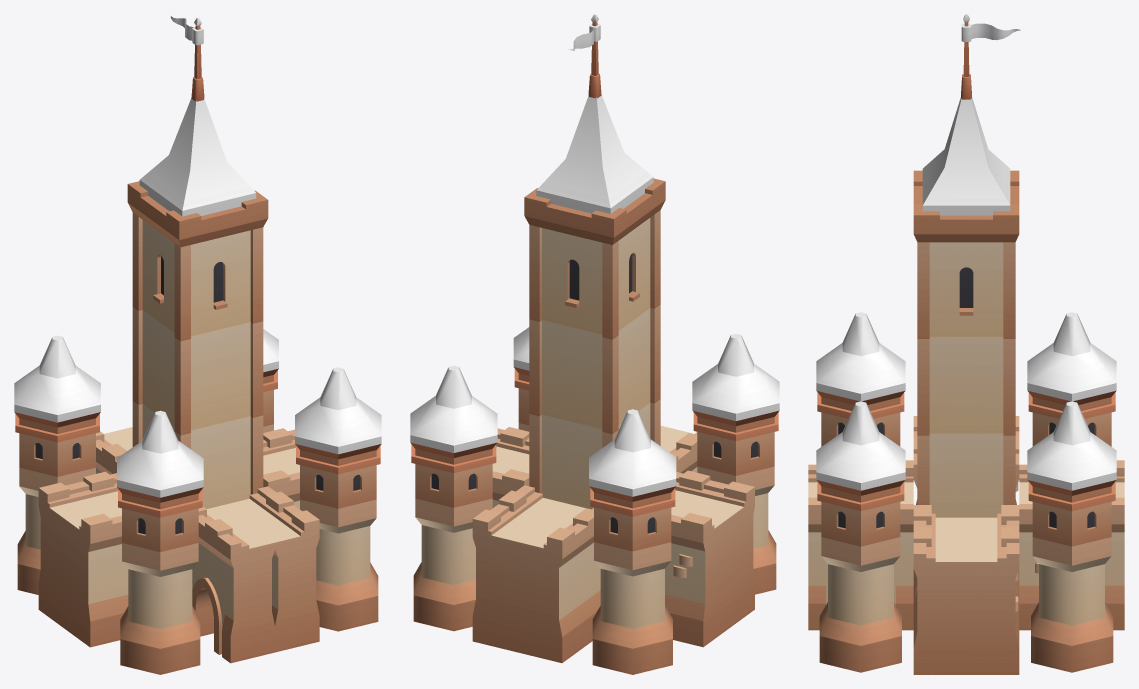
File: castle_large.glb
The picture shows the model from 3 angles, left to right: view 1: azimuth 30°, elevation 25°; view 2: azimuth 150°, elevation 25°; view 3: azimuth 270°, elevation 25°; orthographic projection. The views are drawn at different scales.
Visible parts, largest first — view 1: tower-hexagon-base (×3), tower-square-mid (×2), wall-doorway (×2), tower-hexagon-roof (×4), wall (×3), tower-square-mid-windows, tower-square-top-roof-high, tower-hexagon-mid (×4), flag-pennant; view 2: wall (×3), tower-hexagon-base (×3), tower-square-mid (×2), tower-hexagon-roof (×4), tower-square-mid-windows, tower-square-top-roof-high, tower-hexagon-mid (×4), wall-doorway, flag-pennant; view 3: tower-hexagon-roof (×4), wall (×3), tower-hexagon-base (×2), tower-square-mid (×2), tower-hexagon-mid (×4), tower-square-top-roof-high, tower-square-mid-windows, wall-doorway (×2), flag-pennant.
Part boxes in pixels (x1,y1,x2,y2): tower-hexagon-base (×3): [17, 467, 378, 674]; tower-square-mid (×2): [132, 307, 263, 508]; wall-doorway (×2): [192, 486, 319, 663]; tower-hexagon-roof (×4): [14, 329, 381, 509]; wall (×3): [38, 427, 299, 647]; tower-square-mid-windows: [132, 213, 263, 341]; tower-square-top-roof-high: [127, 98, 268, 247]; tower-hexagon-mid (×4): [15, 370, 380, 551]; flag-pennant: [170, 16, 204, 101]; wall (×3): [472, 427, 754, 662]; tower-hexagon-base (×3): [413, 466, 776, 674]; tower-square-mid (×2): [529, 305, 660, 509]; tower-hexagon-roof (×4): [410, 327, 779, 508]; tower-square-mid-windows: [529, 210, 660, 339]; tower-square-top-roof-high: [524, 95, 665, 244]; tower-hexagon-mid (×4): [411, 369, 778, 551]; wall-doorway: [660, 428, 697, 473]; flag-pennant: [568, 14, 601, 98]; tower-hexagon-roof (×4): [816, 312, 1116, 502]; wall (×3): [913, 416, 1124, 674]; tower-hexagon-base (×2): [819, 537, 1113, 672]; tower-square-mid (×2): [917, 337, 1015, 517]; tower-hexagon-mid (×4): [817, 392, 1115, 546]; tower-square-top-roof-high: [913, 97, 1019, 242]; tower-square-mid-windows: [917, 242, 1015, 338]; wall-doorway (×2): [808, 460, 913, 630]; flag-pennant: [961, 14, 1020, 99].
Size of the model in its own units: 3 by 6.21 by 3.
5 materials, 5 textured.
